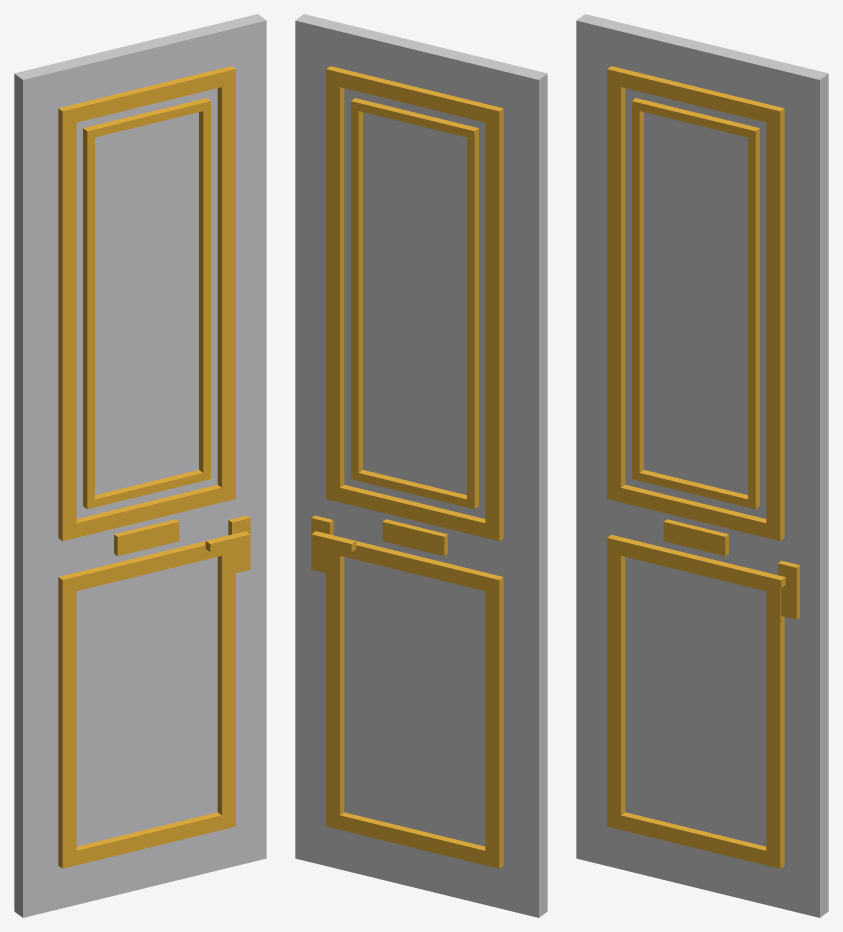
The model's file is SM_Door_obelisk_inner_80x260.fbx.
3 views of the same model, side by side, from view 1: azimuth 30°, elevation 25°; view 2: azimuth 150°, elevation 25°; view 3: azimuth 330°, elevation 25° (orthographic).
Visible parts, largest first — view 1: SM_Door_obelisk_inner_80x260; view 2: SM_Door_obelisk_inner_80x260; view 3: SM_Door_obelisk_inner_80x260.
Part boxes in pixels (left/top/right/bottom): SM_Door_obelisk_inner_80x260: left=14, top=14, right=266, bottom=917; SM_Door_obelisk_inner_80x260: left=295, top=14, right=547, bottom=917; SM_Door_obelisk_inner_80x260: left=576, top=14, right=828, bottom=917.
Bounding box in the file's own units: 0.788 × 2.59 × 0.175.
